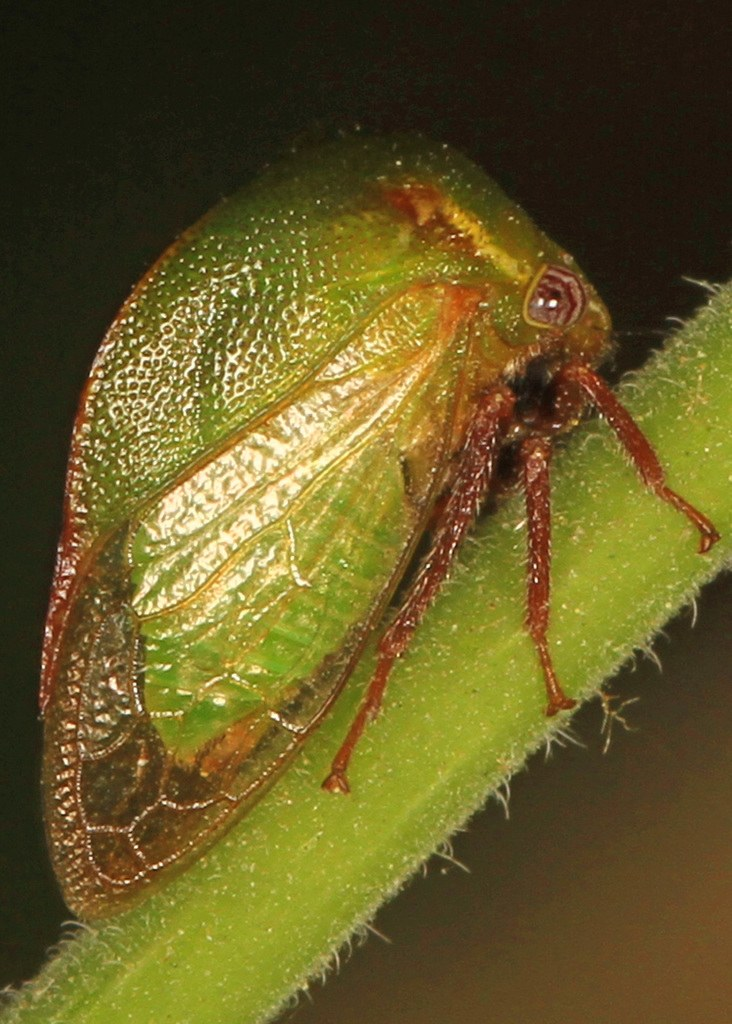insect: (33, 116, 724, 918)
